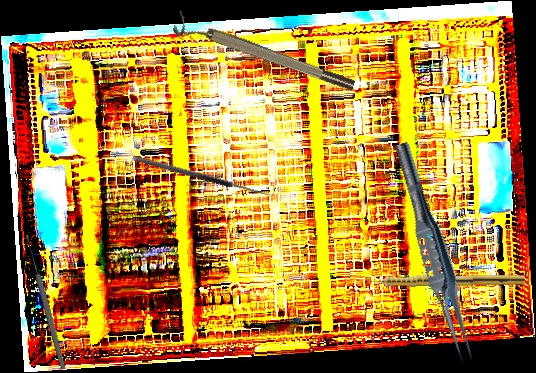Fixation Ring: (171, 9, 357, 102)
Handpiece: (363, 271, 526, 288)
Hook Surgical: (131, 148, 277, 199)
Surgical Spoon: (23, 233, 68, 371)
Tissue Forceps: (384, 139, 484, 365)
